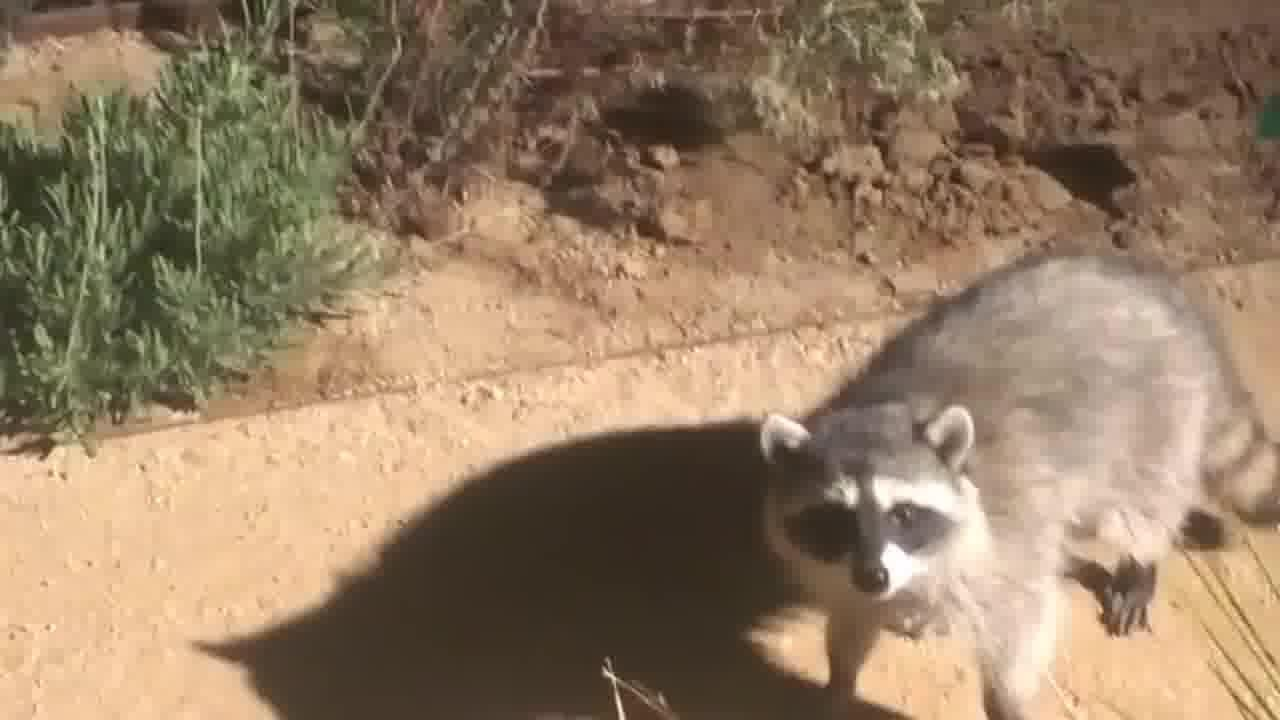raccoon: (759, 238, 1270, 720)
